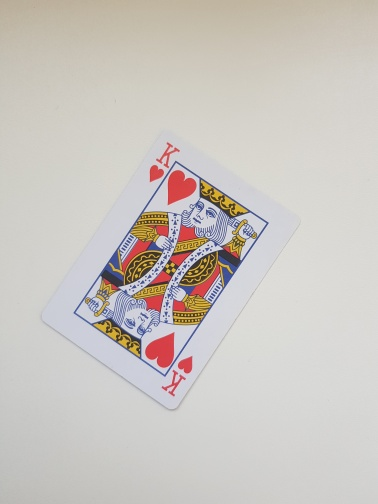king: (38, 130, 301, 412)
